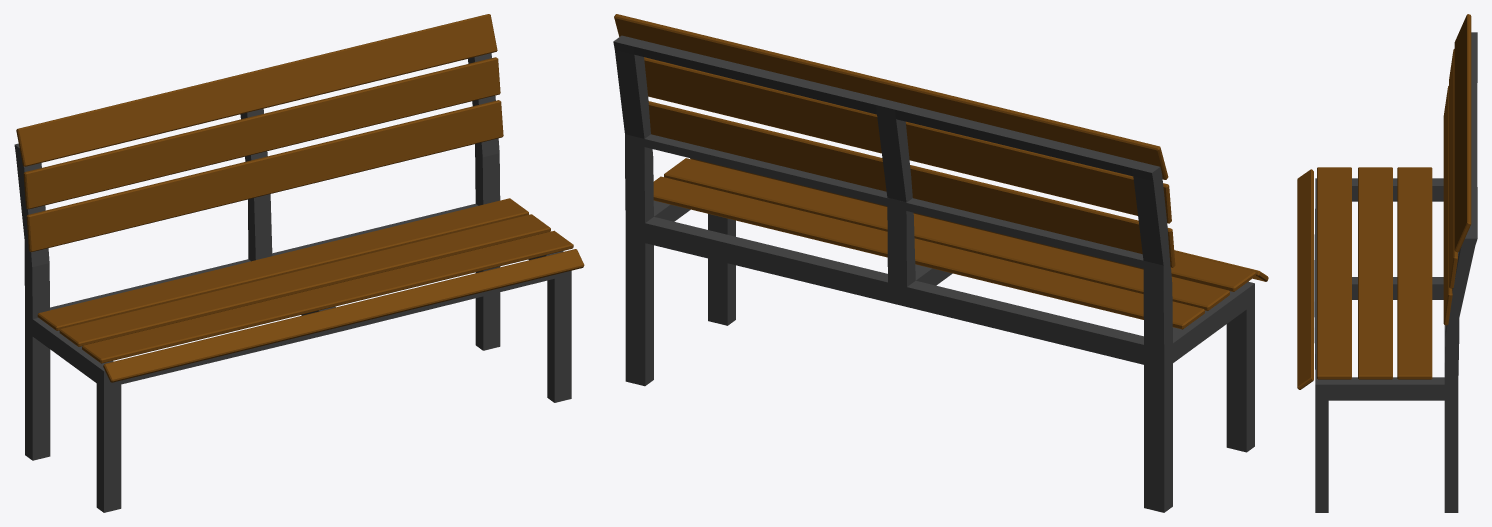
File: parkbence.fbx
3 views of the same model, side by side, from view 1: azimuth 30°, elevation 25°; view 2: azimuth 150°, elevation 25°; view 3: azimuth 270°, elevation 25° (orthographic). The views are drawn at different scales.
Visible parts, largest first — view 1: Parkbench; view 2: Parkbench; view 3: Parkbench.
Boxes of the visible parts, <box> form: Parkbench: <box>14,14,584,512</box>; Parkbench: <box>613,14,1268,512</box>; Parkbench: <box>1297,14,1477,512</box>.
Bounding box in the file's own units: 966 × 629 × 352.
